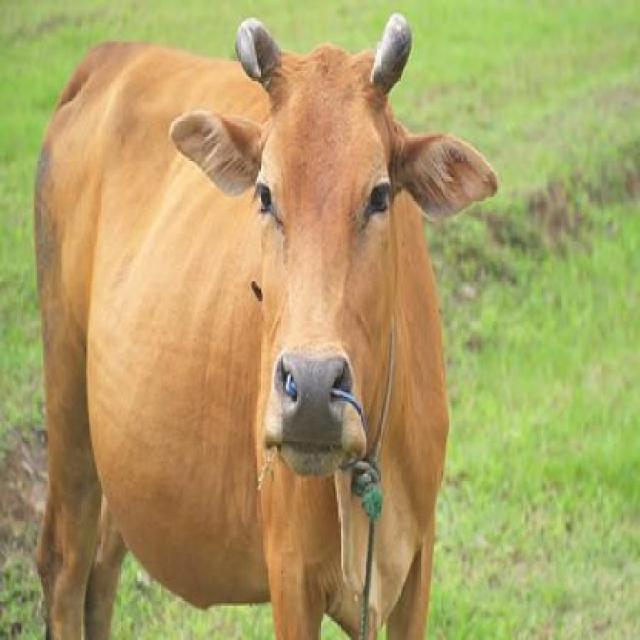Cow: (28, 16, 500, 638)
